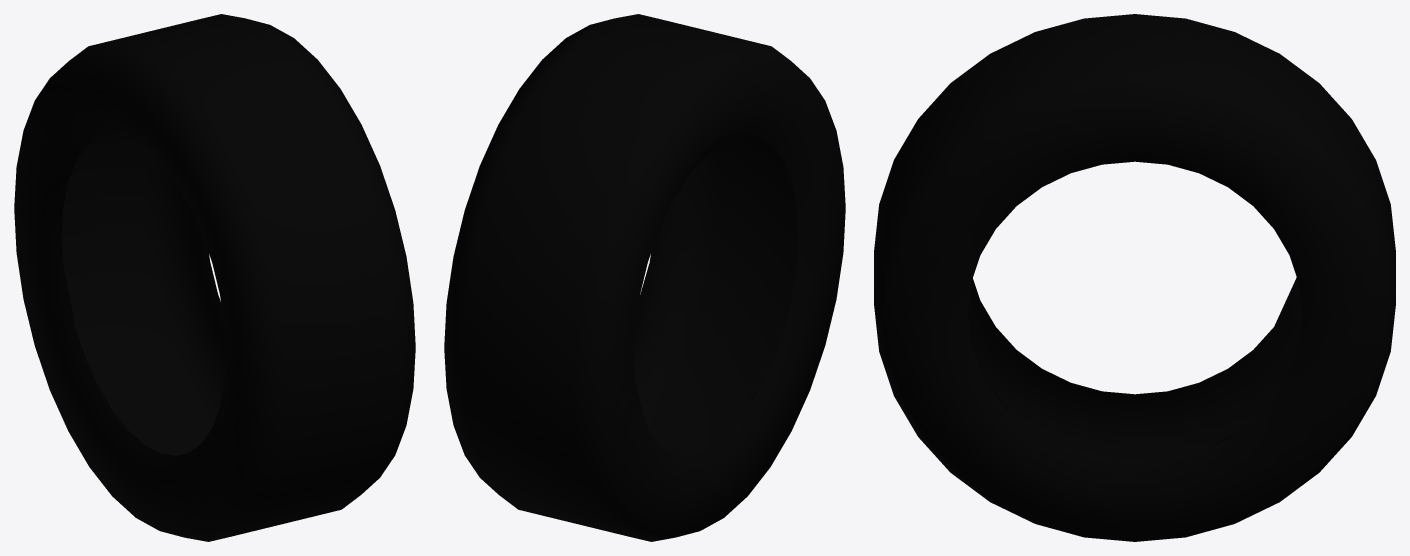
Rendered from bati_caucho.obj.
3 views of the same model, side by side, from view 1: azimuth 30°, elevation 25°; view 2: azimuth 150°, elevation 25°; view 3: azimuth 270°, elevation 25° (orthographic).
Visible parts, largest first — view 1: CAUCHO; view 2: CAUCHO; view 3: CAUCHO.
Part boxes in pixels (bbox=[...]): CAUCHO: bbox=[14, 14, 415, 541]; CAUCHO: bbox=[444, 14, 845, 541]; CAUCHO: bbox=[874, 14, 1395, 541].
Bounding box in the file's own units: 0.285 × 0.8 × 0.8.
